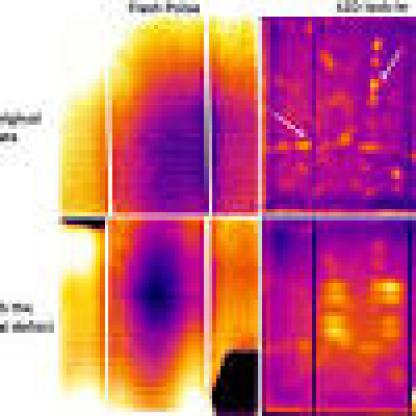Defects: (370, 278, 400, 303), (316, 312, 341, 341), (321, 283, 346, 304), (383, 316, 399, 341)
